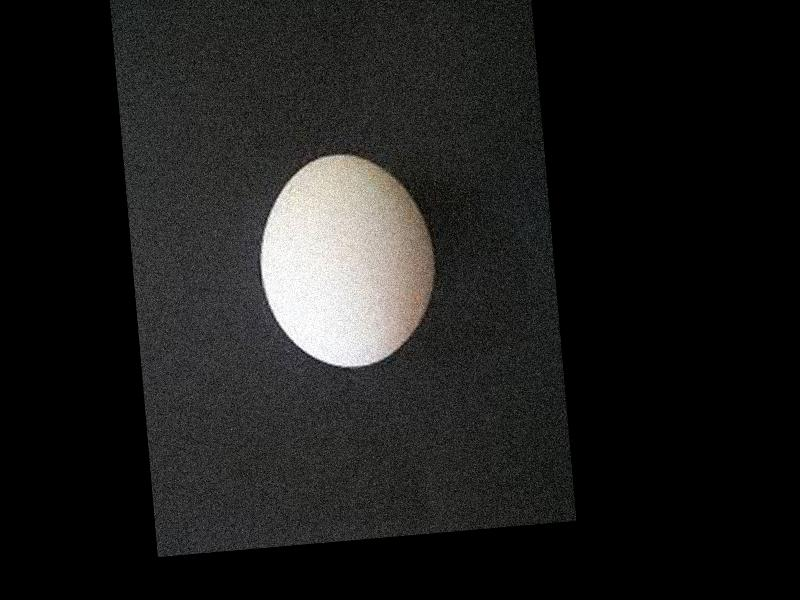Eggs: (252, 145, 440, 369)
